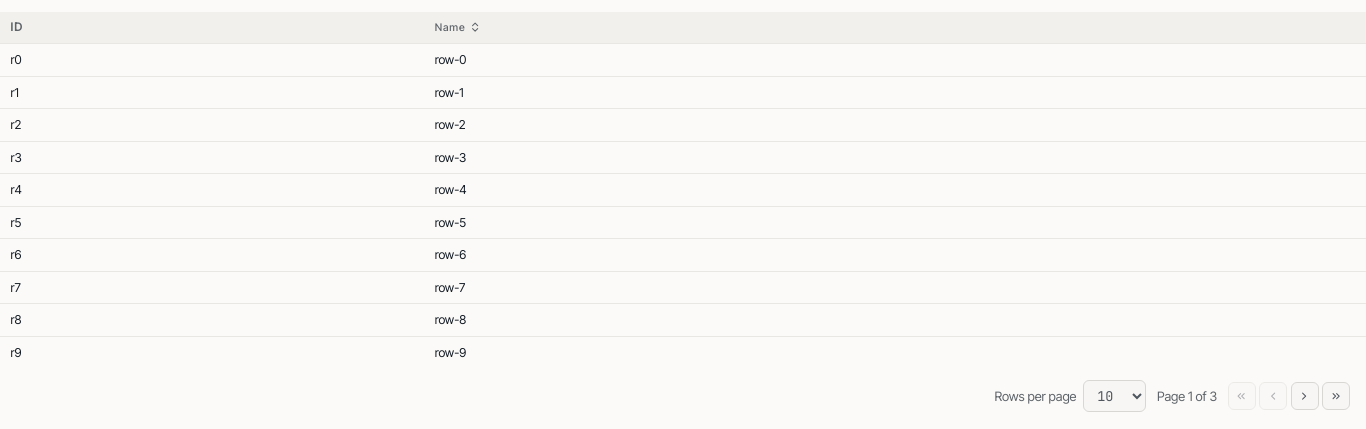
it: DataTable › settles after a sort instead of re-rendering in a loop
The width and height of the screenshot is (1366, 429).
Click the button named "Go to next page" at (1304, 396), box [1290,382,1318,410]
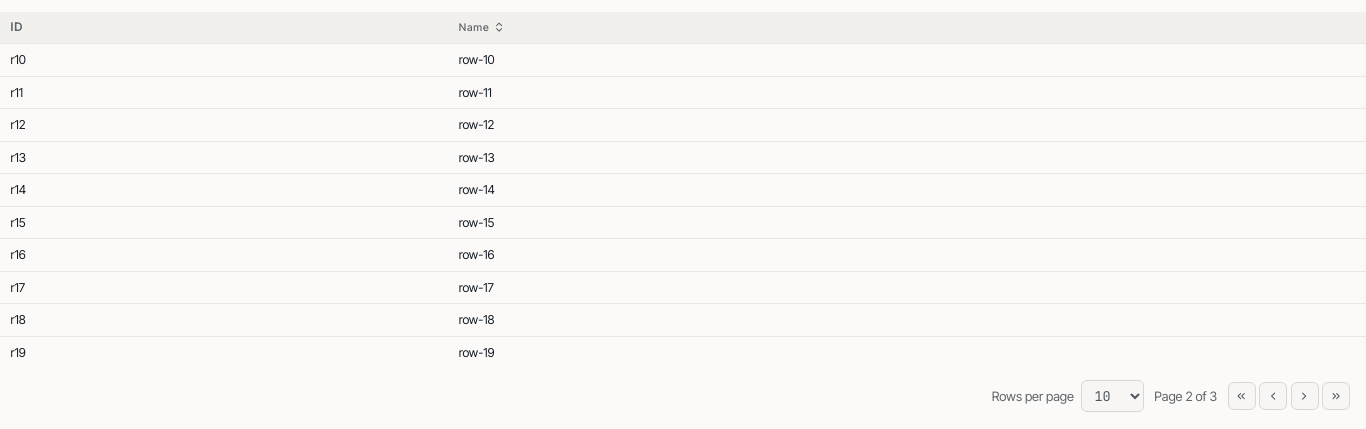
Click the button "Name" at (482, 28), box [452,14,512,42]
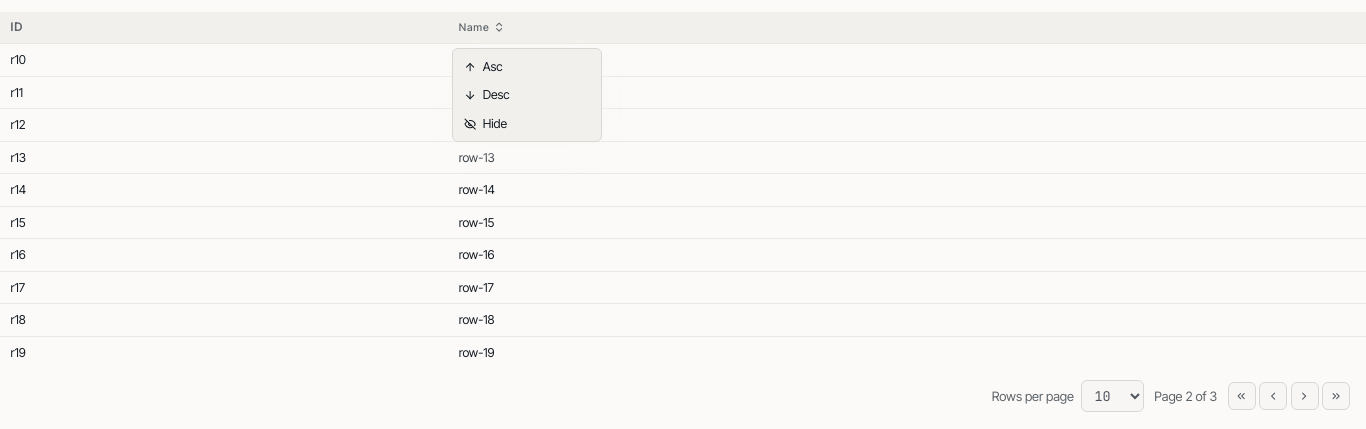
Click the menu item "Asc" at (483, 66), box [464,59,503,74]
Wait 100 ms
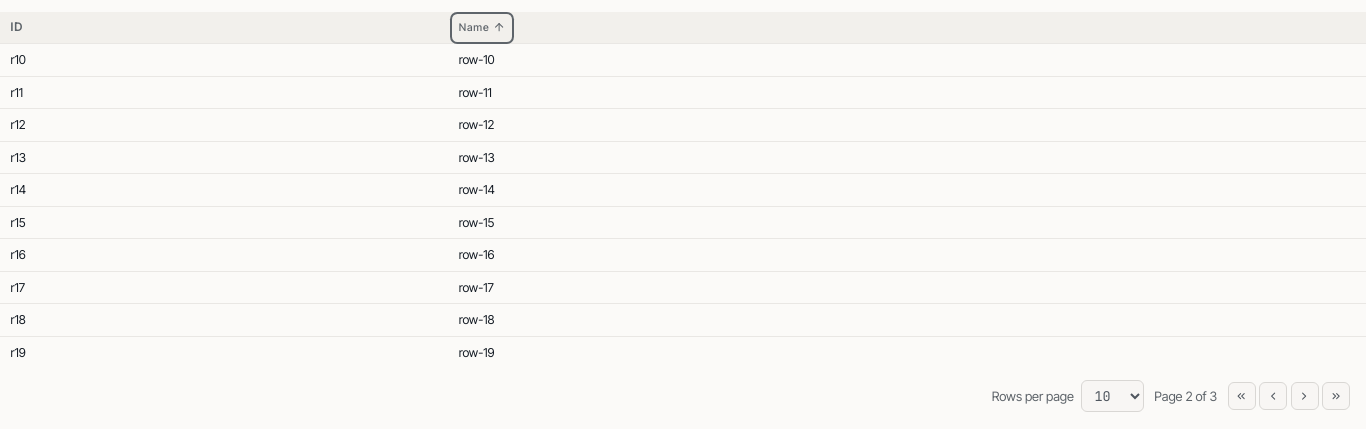
Check: the text "row-10" is shown, box [448,44,1365,76]
Check: the button with aria-label "Name, sorted ascending" is shown, box [452,14,512,42]
